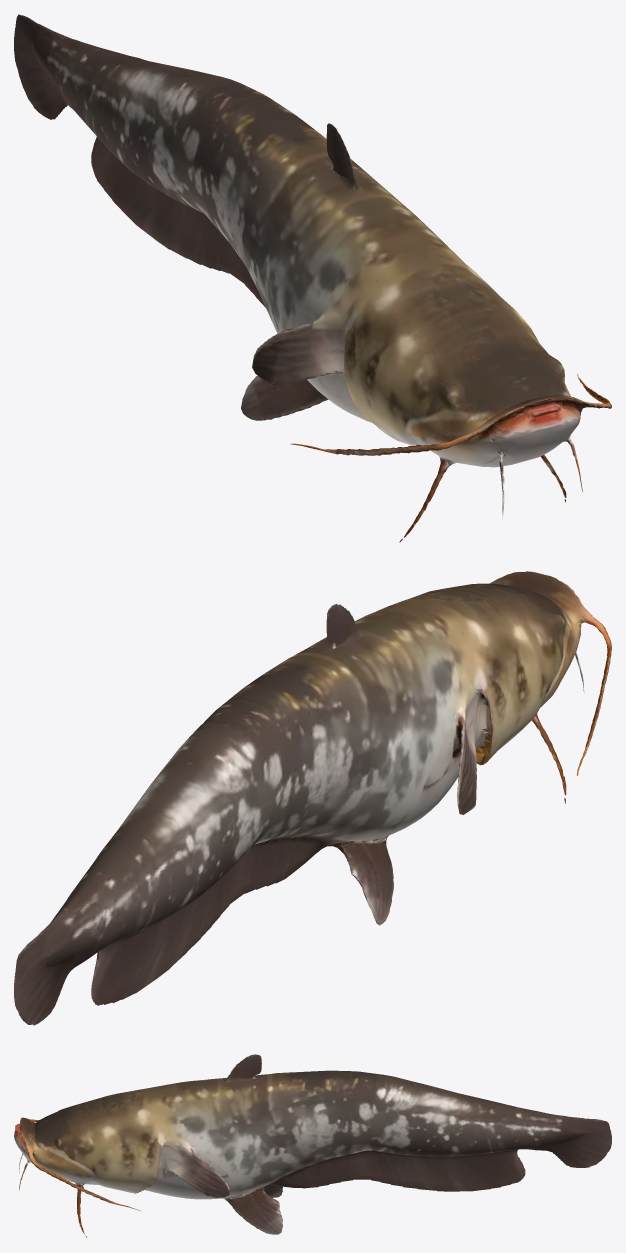
File: meerval.glb
3 renders of one model, top to bottom at view 1: azimuth 30°, elevation 25°; view 2: azimuth 150°, elevation 25°; view 3: azimuth 270°, elevation 25°, orthographic. The views are drawn at different scales.
Parts seen in each view (by area): view 1: Object_4; view 2: Object_4; view 3: Object_4.
Part boxes in pixels (x1,y1,x2,y2): Object_4: (14,14,611,542); Object_4: (14,571,611,1025); Object_4: (14,1054,611,1237).
Size of the model in its own units: 0.5917 by 0.566 by 1.9.
Materials: 1 (1 with a texture image).
